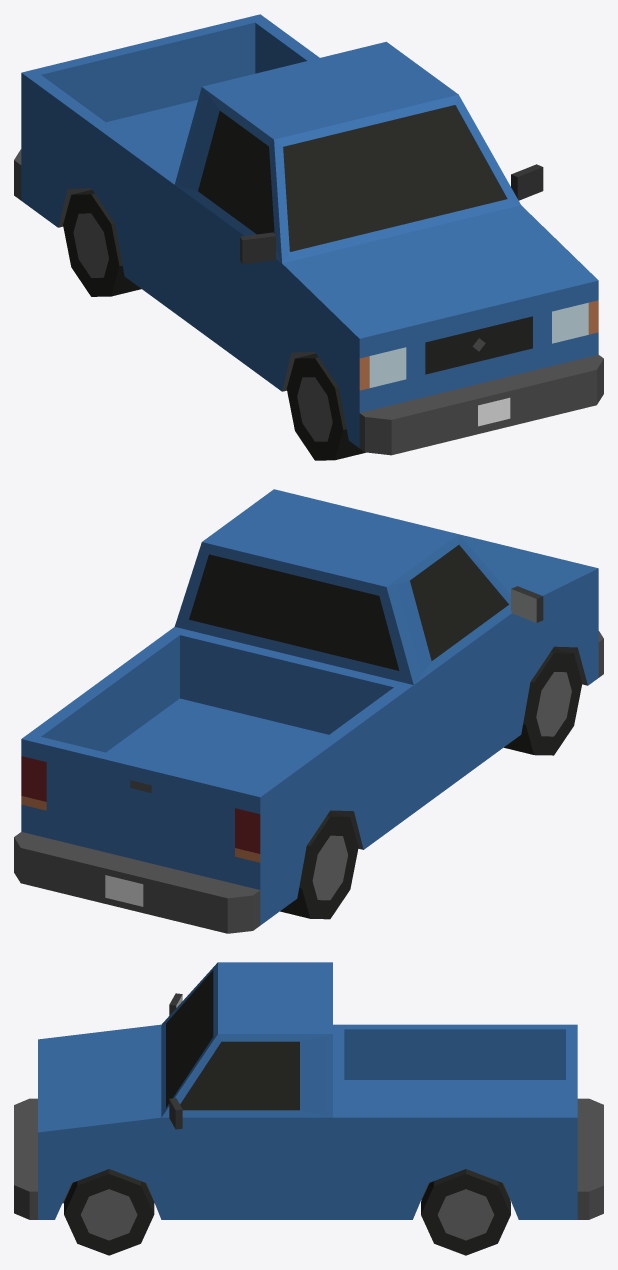
Rendered from Veh_Pickup_01_Blue.glb.
3 views of the same model, one above another, from view 1: azimuth 30°, elevation 25°; view 2: azimuth 150°, elevation 25°; view 3: azimuth 270°, elevation 25° (orthographic). The views are drawn at different scales.
Parts seen in each view (by area): view 1: Pickup_01_Blue, Wheel_FR, Wheel_RR; view 2: Pickup_01_Blue, Wheel_RR, Wheel_FR; view 3: Pickup_01_Blue, Wheel_FL, Wheel_RL.
Boxes of the visible parts, x1,y1,x2,y2 form: Pickup_01_Blue: (14,14,603,455); Wheel_FR: (286,353,365,460); Wheel_RR: (63,190,141,296); Pickup_01_Blue: (14,489,603,933); Wheel_RR: (280,812,358,919); Wheel_FR: (504,648,582,755); Pickup_01_Blue: (14,962,603,1219); Wheel_FL: (64,1169,154,1255); Wheel_RL: (421,1169,510,1255).
Bounding box in the file's own units: 1.34 × 1.12 × 2.85.
1 material, 1 textured.
